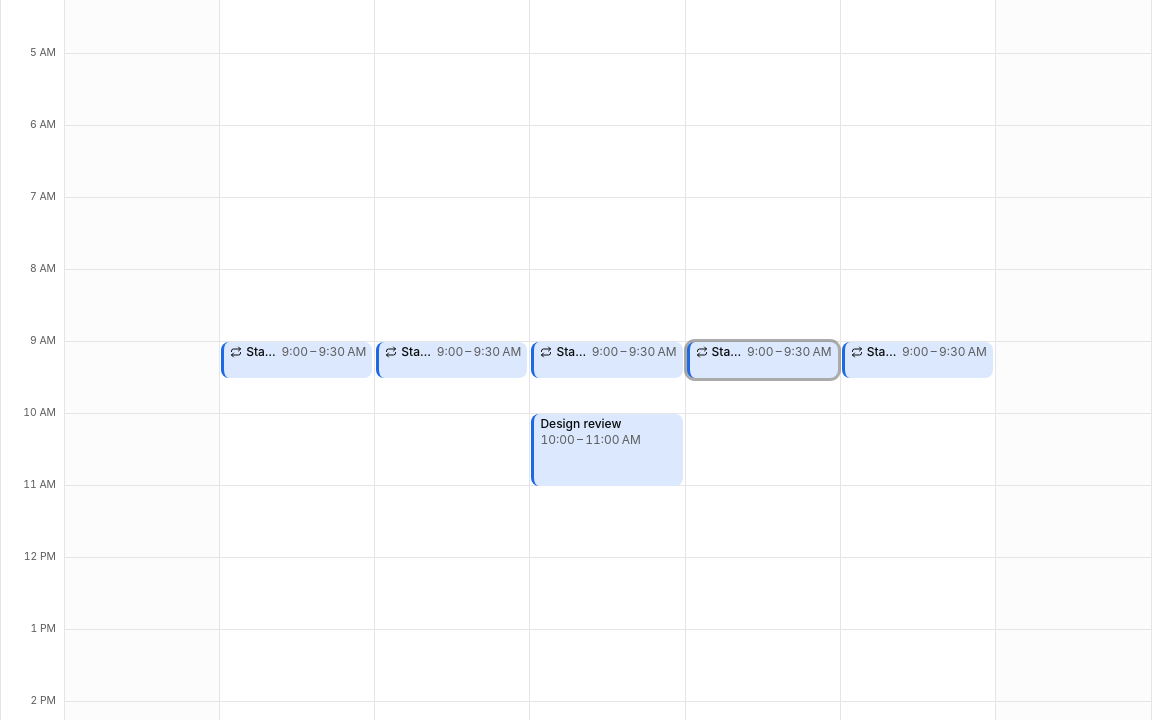
Test: recurring edit scope › offers "this" / "following" / "all" when deleting an occurrence
(page scrolled)
Step 1. Press Delete
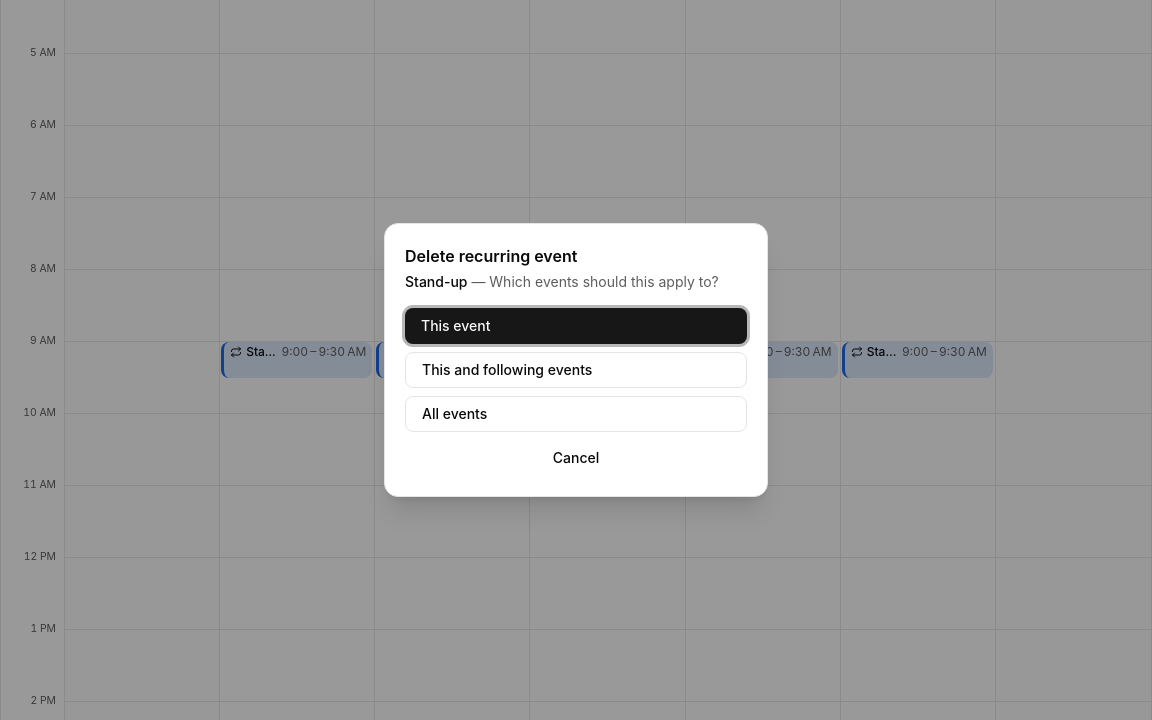
Now the buttons read "This event", "This and following events", "All events", "Cancel", in this order
Step 2. Click the button "This and following events" → (576, 370), box [405,352,747,388]
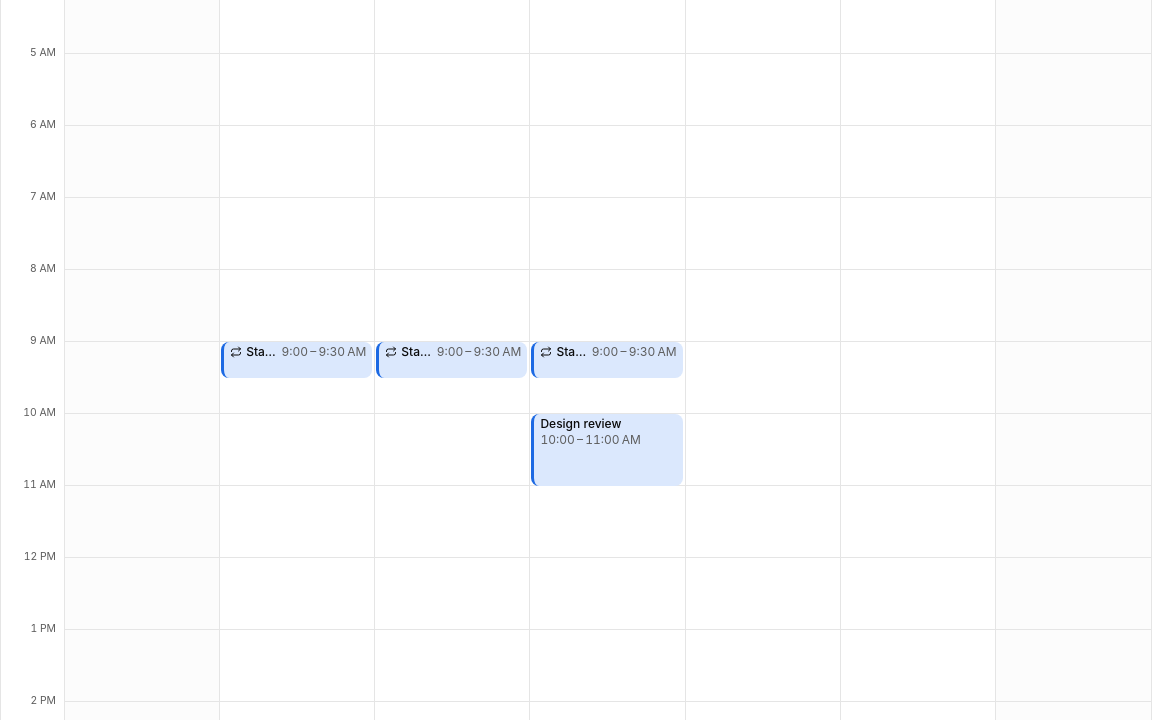
Now the number of buttons "Stand-up 9:00 – 9:30 AM" is 3, box [221,342,372,378]; [376,342,527,378]; [531,342,682,378]
